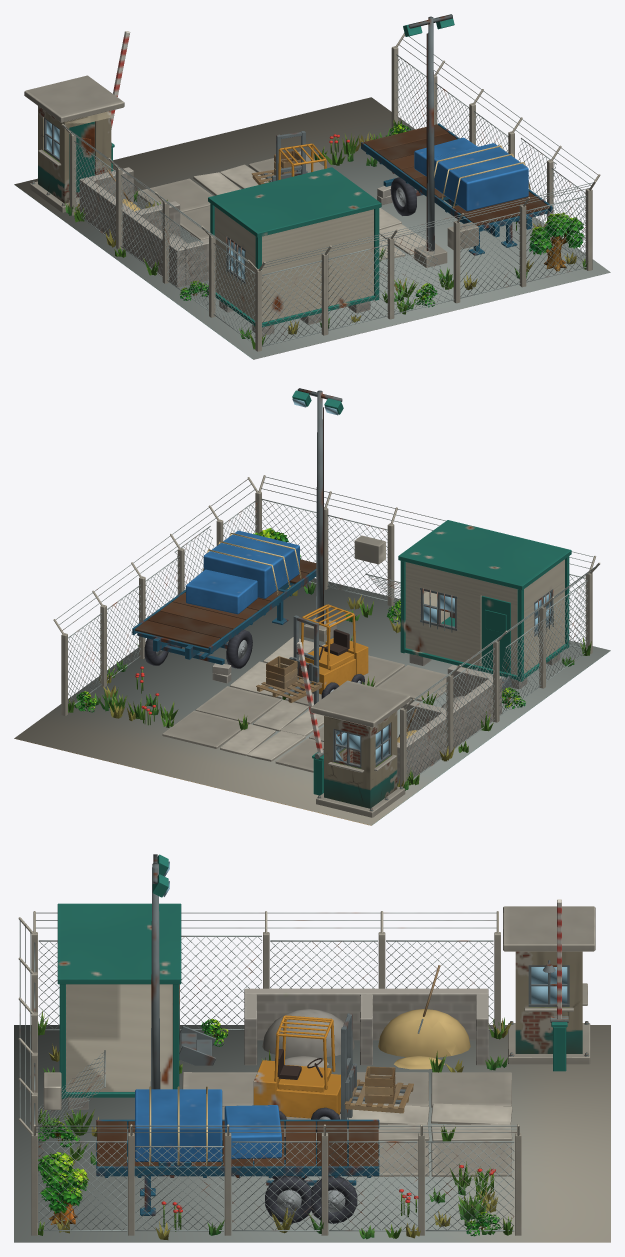
The model's file is Lot_Patio.fbx.
3 renders of one model, top to bottom at view 1: azimuth 30°, elevation 25°; view 2: azimuth 150°, elevation 25°; view 3: azimuth 270°, elevation 25°, orthographic. The views are drawn at different scales.
Visible parts, largest first — view 1: PAT_build, PAT_pad, PAT_fence, PAT_junk, PAT_green; view 2: PAT_build, PAT_junk, PAT_pad, PAT_fence, PAT_green; view 3: PAT_build, PAT_pad, PAT_junk, PAT_fence, PAT_green.
Part boxes in pixels (x1,y1,x2,y2): PAT_build: [24, 14, 478, 336]; PAT_pad: [14, 97, 610, 359]; PAT_fence: [61, 33, 600, 351]; PAT_junk: [136, 123, 552, 259]; PAT_green: [65, 119, 588, 349]; PAT_build: [292, 388, 571, 817]; PAT_junk: [132, 530, 446, 772]; PAT_pad: [14, 578, 610, 825]; PAT_fence: [53, 475, 600, 786]; PAT_green: [68, 528, 591, 790]; PAT_build: [43, 854, 595, 1109]; PAT_pad: [14, 1025, 610, 1242]; PAT_junk: [96, 1013, 512, 1223]; PAT_fence: [18, 911, 521, 1235]; PAT_green: [38, 1010, 513, 1239].
Bounding box in the file's own units: 10 × 6.5 × 11.6.
Materials: 1 (1 with a texture image).
